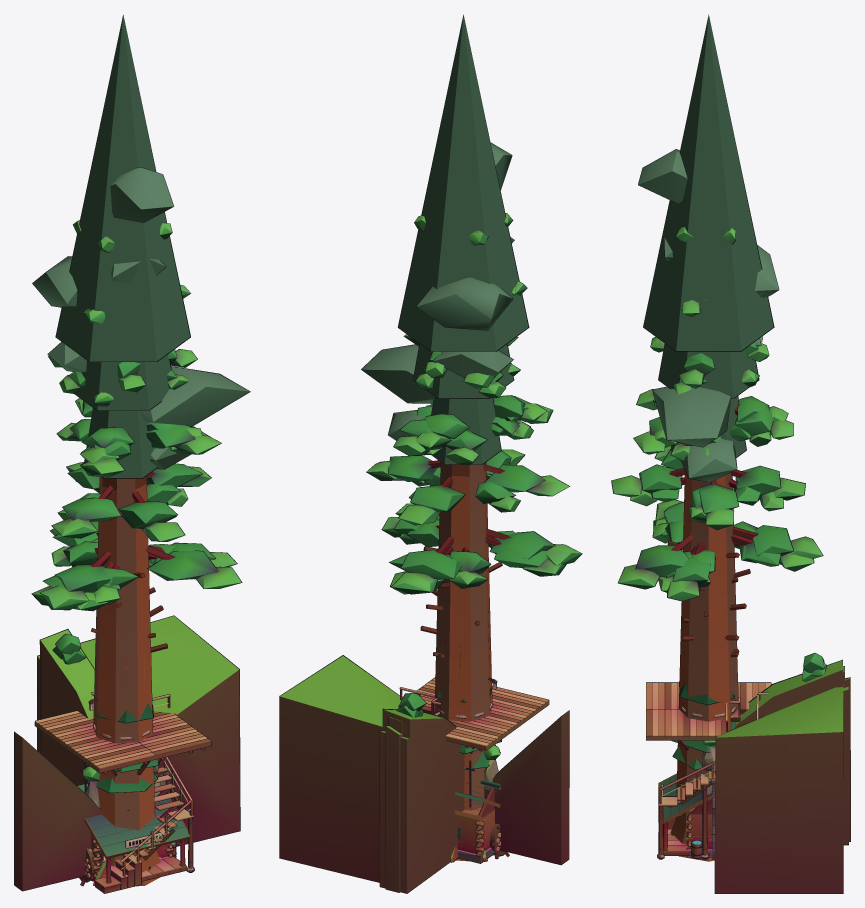
File: fps-kit-grove.glb
The picture shows the model from 3 angles, left to right: view 1: azimuth 30°, elevation 25°; view 2: azimuth 150°, elevation 25°; view 3: azimuth 270°, elevation 25°; orthographic projection. The views are drawn at different scales.
Parts seen in each view (by area): view 1: KIT_GROVE_Backdrop_Trunk_B, KIT_GROVE_Landmark_Redwood_A, KIT_GROVE_Corner_A, KIT_GROVE_Landmark_Redwood_B, KIT_GROVE_TrailWall, KIT_GROVE_Backdrop_Trunk_A, KIT_GROVE_Landmark_Cabin, KIT_GROVE_Landmark_Giant_B, KIT_GROVE_TrailWall_B, KIT_GROVE_Cliff_B, KIT_GROVE_Backdrop_Trunk_C, KIT_GROVE_Cliff_A (+6 smaller); view 2: KIT_GROVE_Backdrop_Trunk_B, KIT_GROVE_Corner_A, KIT_GROVE_Landmark_Redwood_B, KIT_GROVE_Landmark_Redwood_A, KIT_GROVE_TrailWall, KIT_GROVE_Roots_B, KIT_GROVE_Cliff_B, KIT_GROVE_Landmark_Giant_B, KIT_GROVE_Cliff_A, KIT_GROVE_Backdrop_Trunk_A, KIT_GROVE_Roots_1, KIT_GROVE_Landmark_Cabin (+3 smaller); view 3: KIT_GROVE_Backdrop_Trunk_B, KIT_GROVE_Corner_A, KIT_GROVE_Landmark_Redwood_A, KIT_GROVE_Landmark_Redwood_B, KIT_GROVE_Backdrop_Trunk_A, KIT_GROVE_Landmark_Giant_A, KIT_GROVE_Cliff_B, KIT_GROVE_Landmark_Cabin, KIT_GROVE_Landmark_Giant_B, KIT_GROVE_Roots_B, KIT_GROVE_Redwood_Young_B, KIT_GROVE_Backdrop_Trunk_C (+1 smaller).
Boxes of the visible parts, left/top/right/bottom form: KIT_GROVE_Backdrop_Trunk_B: left=32, top=15, right=250, bottom=886; KIT_GROVE_Landmark_Redwood_A: left=31, top=236, right=237, bottom=893; KIT_GROVE_Corner_A: left=80, top=615, right=240, bottom=846; KIT_GROVE_Landmark_Redwood_B: left=39, top=220, right=242, bottom=878; KIT_GROVE_TrailWall: left=14, top=736, right=101, bottom=891; KIT_GROVE_Backdrop_Trunk_A: left=47, top=259, right=210, bottom=469; KIT_GROVE_Landmark_Cabin: left=77, top=763, right=191, bottom=883; KIT_GROVE_Landmark_Giant_B: left=51, top=392, right=188, bottom=633; KIT_GROVE_TrailWall_B: left=14, top=731, right=101, bottom=890; KIT_GROVE_Cliff_B: left=39, top=629, right=94, bottom=782; KIT_GROVE_Backdrop_Trunk_C: left=84, top=408, right=157, bottom=478; KIT_GROVE_Cliff_A: left=41, top=650, right=88, bottom=784; KIT_GROVE_Backdrop_Trunk_B: left=361, top=14, right=529, bottom=861; KIT_GROVE_Corner_A: left=279, top=655, right=402, bottom=882; KIT_GROVE_Landmark_Redwood_B: left=366, top=230, right=582, bottom=861; KIT_GROVE_Landmark_Redwood_A: left=381, top=213, right=566, bottom=862; KIT_GROVE_TrailWall: left=484, top=714, right=569, bottom=865; KIT_GROVE_Roots_B: left=379, top=706, right=464, bottom=893; KIT_GROVE_Cliff_B: left=382, top=693, right=464, bottom=891; KIT_GROVE_Landmark_Giant_B: left=399, top=363, right=533, bottom=657; KIT_GROVE_Cliff_A: left=411, top=709, right=464, bottom=890; KIT_GROVE_Backdrop_Trunk_A: left=388, top=237, right=514, bottom=440; KIT_GROVE_Roots_1: left=385, top=725, right=402, bottom=892; KIT_GROVE_Landmark_Cabin: left=454, top=760, right=500, bottom=863; KIT_GROVE_Backdrop_Trunk_B: left=638, top=14, right=779, bottom=861; KIT_GROVE_Corner_A: left=714, top=684, right=843, bottom=893; KIT_GROVE_Landmark_Redwood_A: left=611, top=228, right=814, bottom=859; KIT_GROVE_Landmark_Redwood_B: left=618, top=227, right=823, bottom=858; KIT_GROVE_Backdrop_Trunk_A: left=658, top=238, right=761, bottom=482; KIT_GROVE_Landmark_Giant_A: left=630, top=378, right=783, bottom=657; KIT_GROVE_Cliff_B: left=735, top=653, right=842, bottom=727; KIT_GROVE_Landmark_Cabin: left=658, top=773, right=715, bottom=859; KIT_GROVE_Landmark_Giant_B: left=652, top=369, right=759, bottom=652; KIT_GROVE_Roots_B: left=811, top=663, right=848, bottom=845; KIT_GROVE_Redwood_Young_B: left=671, top=682, right=735, bottom=752; KIT_GROVE_Backdrop_Trunk_C: left=670, top=396, right=746, bottom=457.
Bounding box in the file's own units: 16.14 × 58.85 × 15.34.
1 material, 1 textured.
